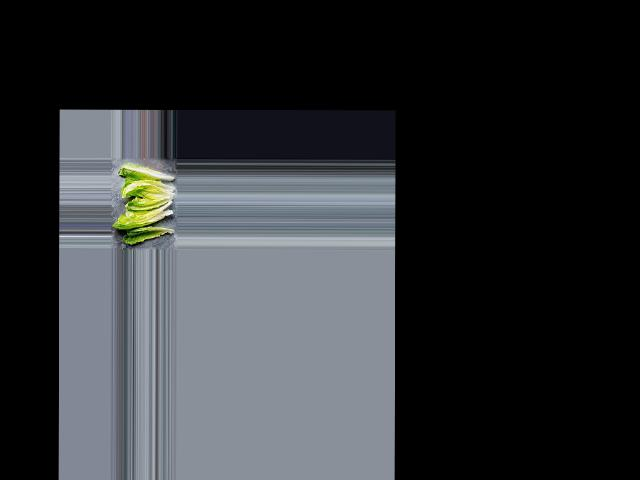lettuce: (123, 225, 176, 243)
